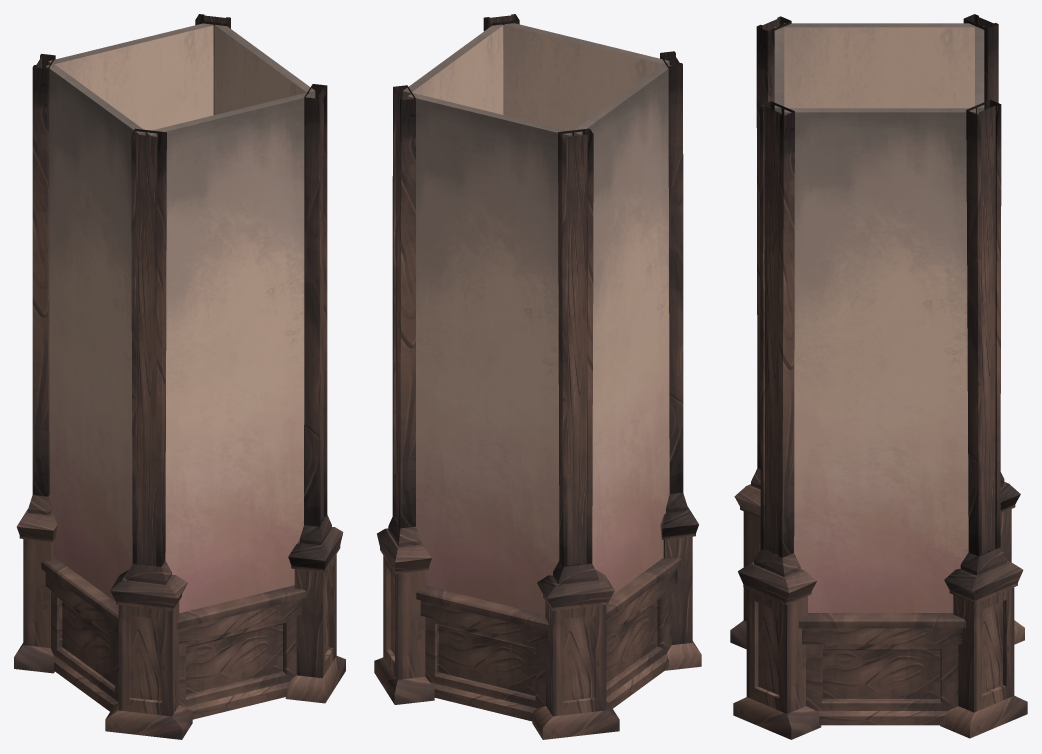
The model's file is Wall_Bot_Half_Pillar_V1.fbx.
3 views of the same model, side by side, from view 1: azimuth 30°, elevation 25°; view 2: azimuth 150°, elevation 25°; view 3: azimuth 270°, elevation 25° (orthographic). The views are drawn at different scales.
Parts seen in each view (by area): view 1: Bot_HalfPillar; view 2: Bot_HalfPillar; view 3: Bot_HalfPillar.
Part boxes in pixels (bbox=[...]): Bot_HalfPillar: bbox=[14, 14, 345, 739]; Bot_HalfPillar: bbox=[374, 14, 701, 739]; Bot_HalfPillar: bbox=[730, 14, 1027, 739].
Bounding box in the file's own units: 0.0184 × 0.0424 × 0.0186.
